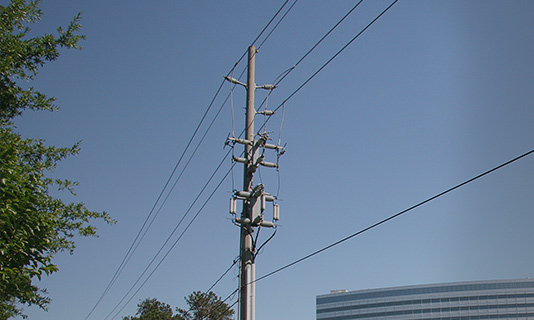utility_pole: (209, 36, 296, 242)
